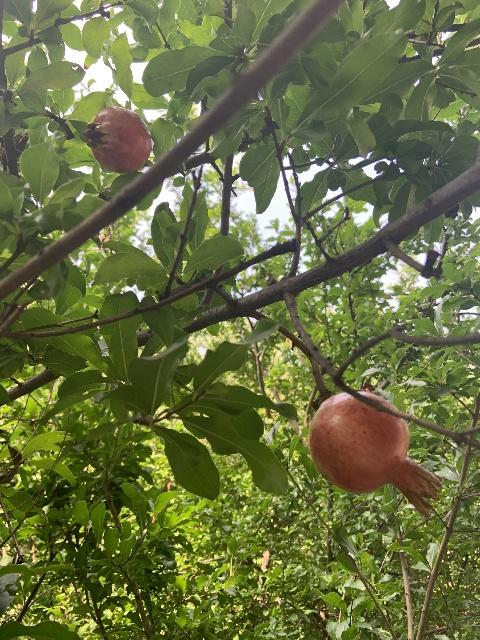ripe: (307, 390, 440, 518), (82, 106, 152, 173)
